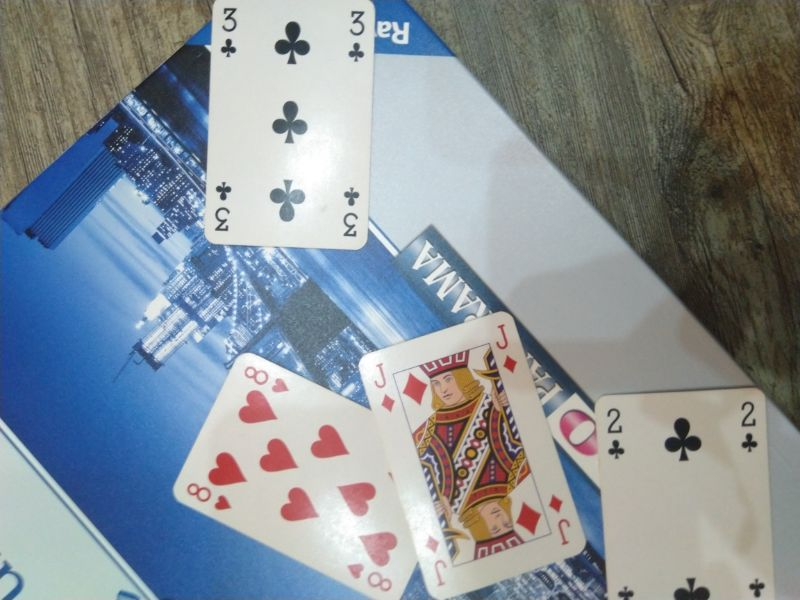2c: (599, 403, 630, 462), (735, 398, 759, 454)
3c: (216, 5, 243, 61), (339, 184, 363, 240), (345, 7, 367, 65), (212, 180, 234, 234)
8h: (346, 559, 394, 597), (185, 480, 234, 513), (242, 363, 293, 394)
Jd: (422, 532, 457, 590), (545, 490, 576, 548), (370, 358, 399, 412), (493, 321, 520, 375)
